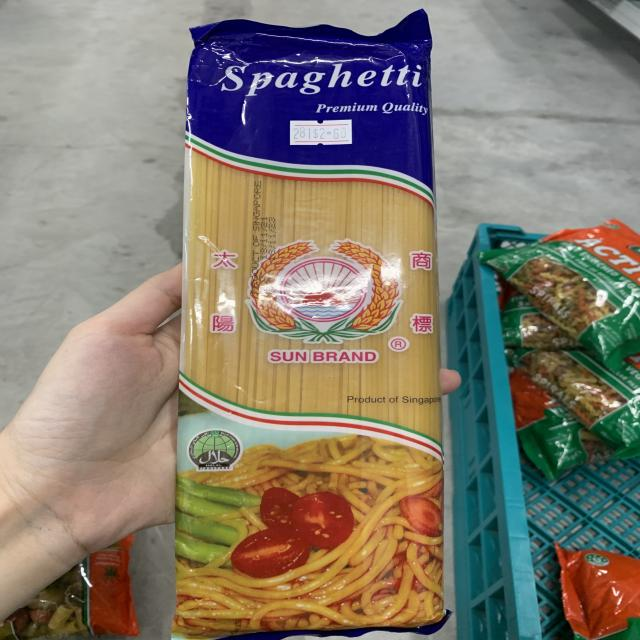object_name: (194, 36, 437, 627)
